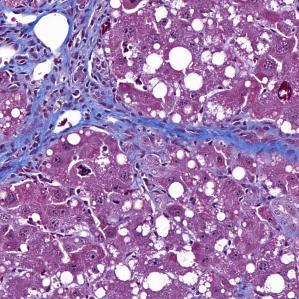fibrosis: (17, 59, 123, 135), (158, 118, 299, 171)
